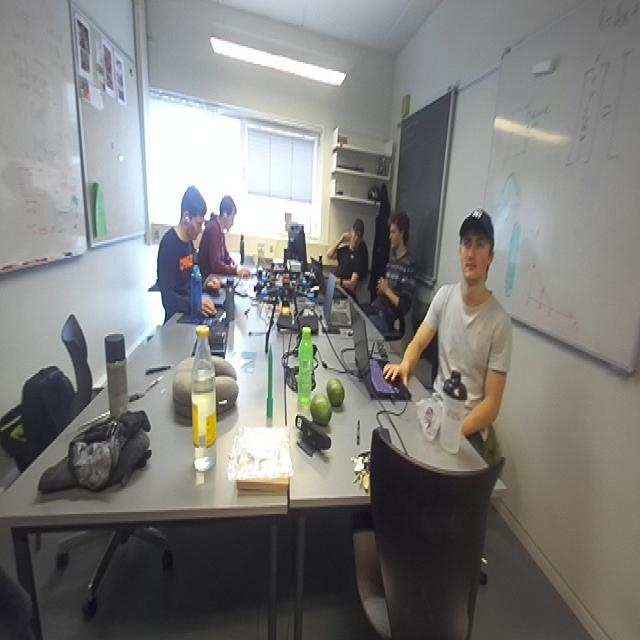probe: (266, 347, 271, 425)
